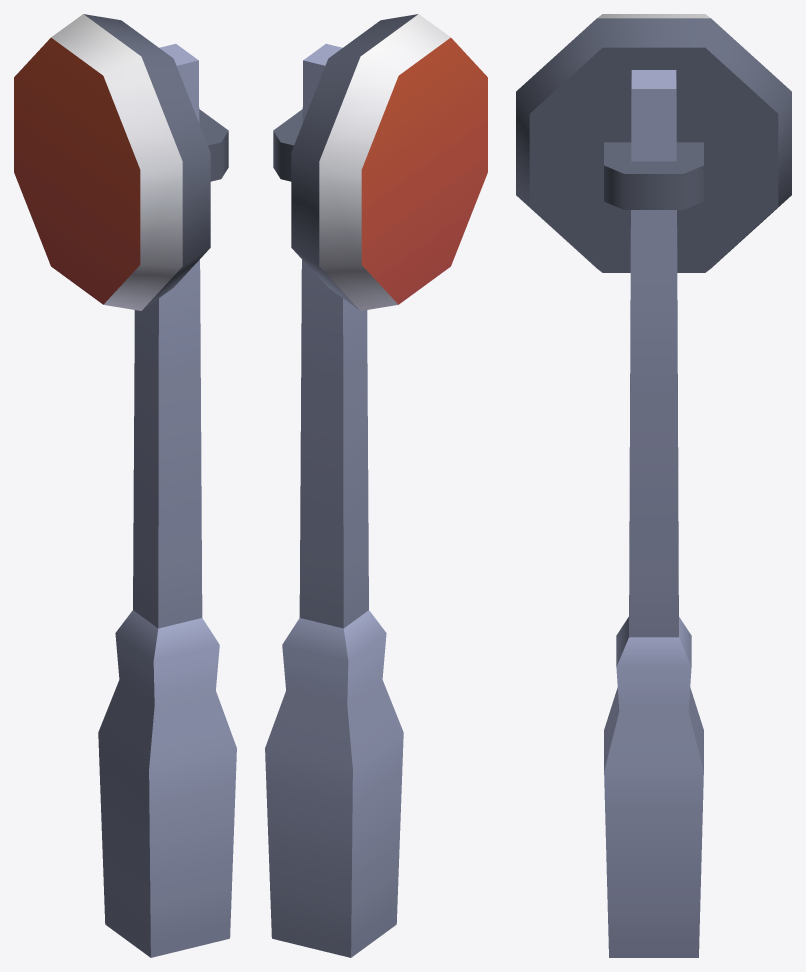
File: road-sign-stop.glb
3 views of the same model, side by side, from view 1: azimuth 30°, elevation 25°; view 2: azimuth 150°, elevation 25°; view 3: azimuth 270°, elevation 25° (orthographic).
Parts seen in each view (by area): view 1: road-sign-stop; view 2: road-sign-stop; view 3: road-sign-stop.
Part boxes in pixels (x1=…): road-sign-stop: x1=14, y1=14, x2=236, y2=957; road-sign-stop: x1=265, y1=14, x2=487, y2=957; road-sign-stop: x1=516, y1=14, x2=791, y2=957.
Size of the model in its own units: 0.0775 by 0.4941 by 0.1382.
Materials: 1 (1 with a texture image).
